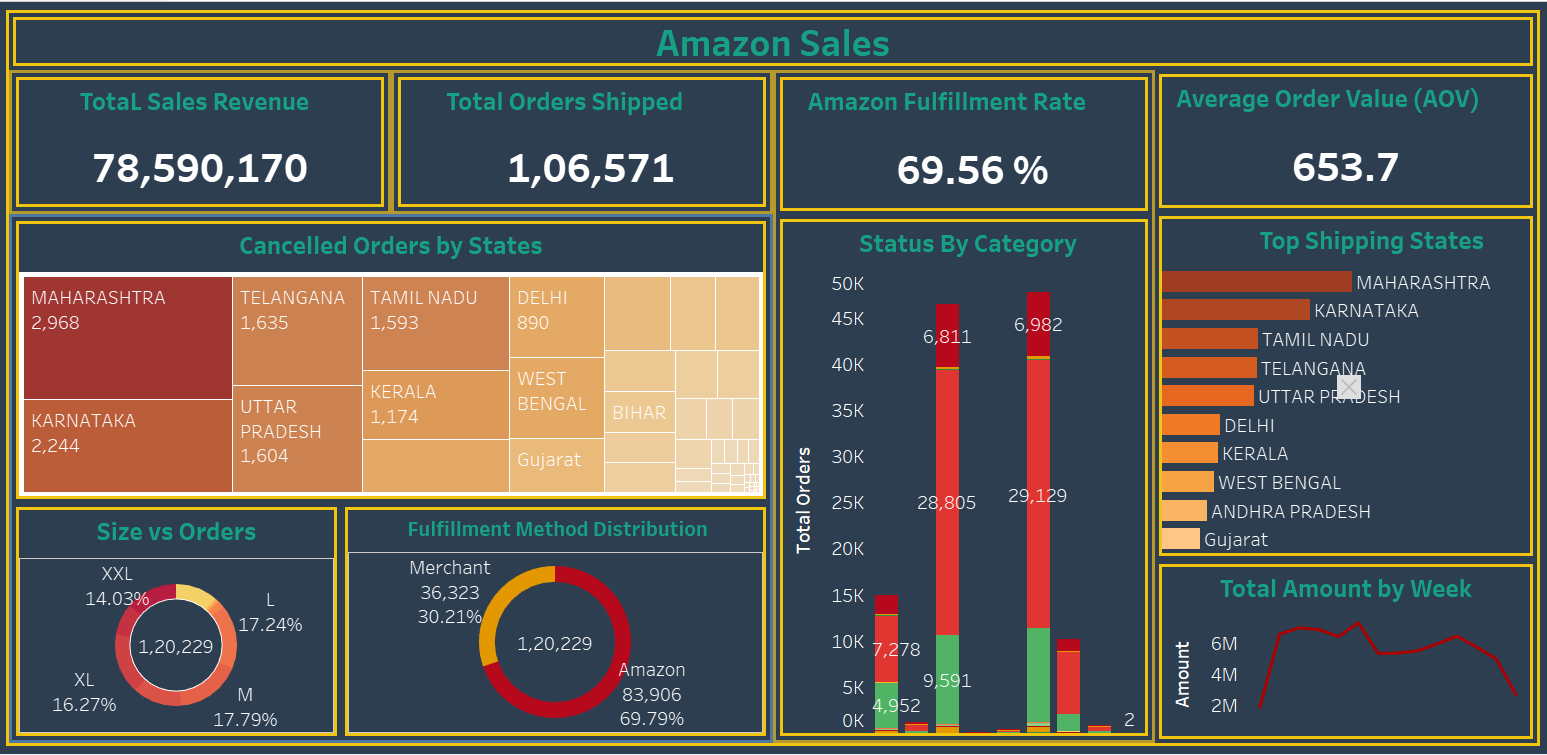

What the dashboard file says about the page in this screenshot:
{"tool":"tableau","page":{"name":"Dashboard 1","canvas":[1550,752],"ordinal":0},"visuals":[{"type":"title","box":[11,11,1528,57]},{"type":"worksheet","title":"Average Order Value","mark":"Automatic","box":[1156.9,68,382.1,142]},{"type":"worksheet","title":"Total sales Revenue","mark":"Automatic","box":[14,71,375.9,137.7]},{"type":"worksheet","title":"Total orders","mark":"Automatic","box":[395.9,71,376,137.7]},{"type":"worksheet","title":"Amazon Fulfillment Rate","mark":"Automatic","box":[778,71,376,142]},{"type":"worksheet","title":"Top Shipping States","mark":"Automatic","rows":["ship-state"],"cols":["Calculation_242631473845780481"],"box":[1156.9,210,382.1,348]},{"type":"worksheet","title":"Status By Category","mark":"Automatic","rows":["Calculation_242631473845780481"],"cols":["Category"],"box":[778,213,376,525]},{"type":"worksheet","title":"Cancelled Orders by States","mark":"Automatic","box":[14,214.7,758,286]},{"type":"dashboard-object","box":[1339,373,24,24]},{"type":"worksheet","title":"Size vs Orders","mark":"Pie","rows":["Calculation_1271141039003271171","Calculation_1271141039003271171"],"box":[14,500.7,329,237.3]},{"type":"worksheet","title":"Fulfillment Method Distribution","mark":"Pie","rows":["Calculation_1271141039003271171","Calculation_1271141039003271171"],"box":[343,500.7,428.9,237.3]},{"type":"worksheet","title":"Total Amount by Week","mark":"Automatic","rows":["Amount"],"cols":["Date"],"box":[1156.9,558,382.1,183]}]}

Visuals, with their boxes in screenshot pixels (x1, y1, x2, y2), scaled from the page's 1550x752 canvas onto the 1547x755 screenshot:
title: pyautogui.locateOnScreen(11, 11, 1536, 68)
"Average Order Value" worksheet: pyautogui.locateOnScreen(1155, 68, 1536, 211)
"Total sales Revenue" worksheet: pyautogui.locateOnScreen(14, 71, 389, 210)
"Total orders" worksheet: pyautogui.locateOnScreen(395, 71, 770, 210)
"Amazon Fulfillment Rate" worksheet: pyautogui.locateOnScreen(776, 71, 1152, 214)
"Top Shipping States" worksheet: pyautogui.locateOnScreen(1155, 211, 1536, 560)
"Status By Category" worksheet: pyautogui.locateOnScreen(776, 214, 1152, 741)
"Cancelled Orders by States" worksheet: pyautogui.locateOnScreen(14, 216, 771, 503)
dashboard-object: pyautogui.locateOnScreen(1336, 374, 1360, 399)
"Size vs Orders" worksheet (Pie marks): pyautogui.locateOnScreen(14, 503, 342, 741)
"Fulfillment Method Distribution" worksheet (Pie marks): pyautogui.locateOnScreen(342, 503, 770, 741)
"Total Amount by Week" worksheet: pyautogui.locateOnScreen(1155, 560, 1536, 744)
